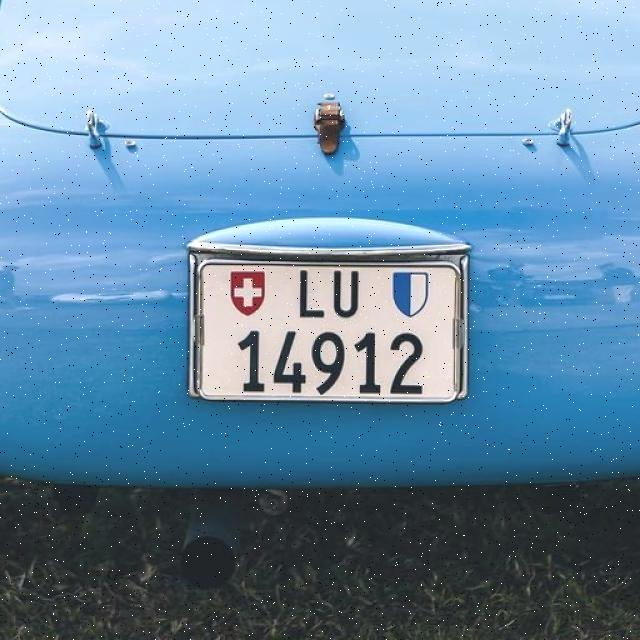licenseplate: (183, 245, 480, 416)
